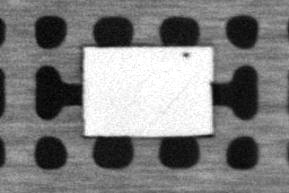DIE_CRACK: (161, 79, 194, 111)
